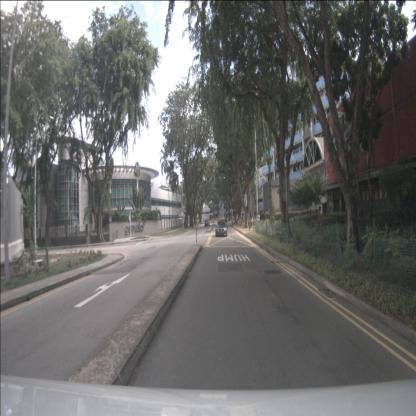human-pedestrian-adult: (318, 206, 322, 235)
vehicle-car: (216, 220, 228, 237), (221, 219, 228, 228), (204, 219, 210, 228)
